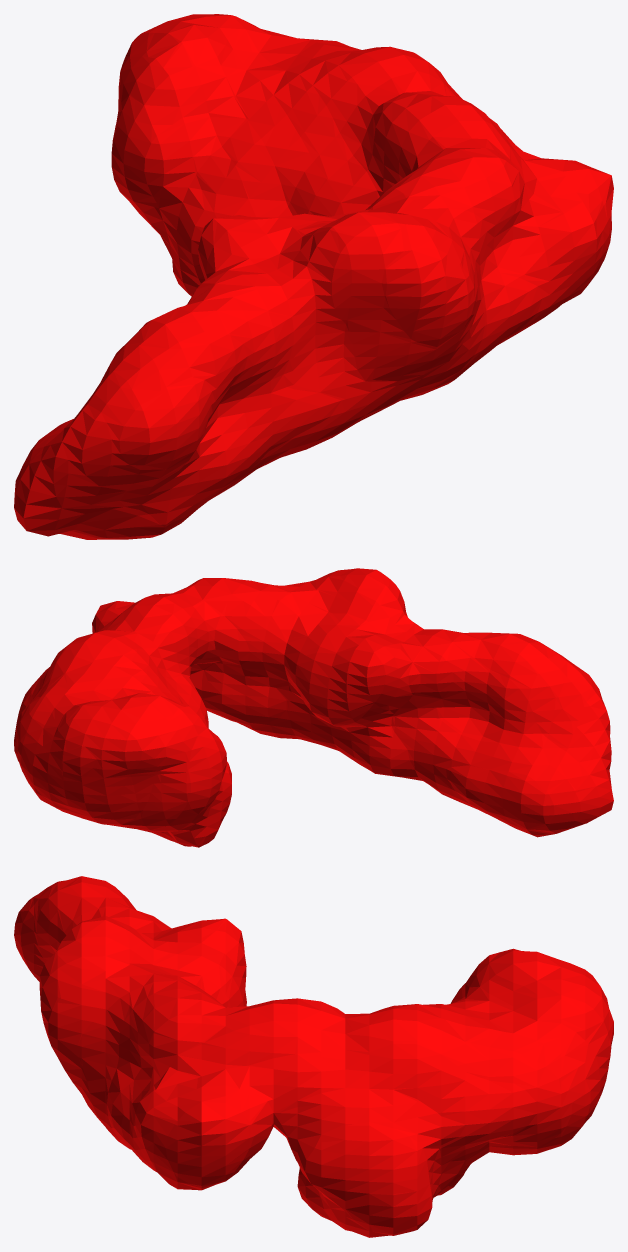
Rendered from cpoB_coarse.dae.
3 views of the same model, one above another, from view 1: azimuth 30°, elevation 25°; view 2: azimuth 150°, elevation 25°; view 3: azimuth 270°, elevation 25° (orthographic). The views are drawn at different scales.
Visible parts, largest first — view 1: cpoB; view 2: cpoB; view 3: cpoB.
Part boxes in pixels (bbox=[...]): cpoB: bbox=[14, 14, 613, 539]; cpoB: bbox=[14, 568, 613, 847]; cpoB: bbox=[14, 876, 613, 1237].
Size of the model in its own units: 81.7 by 33.25 by 73.79.
